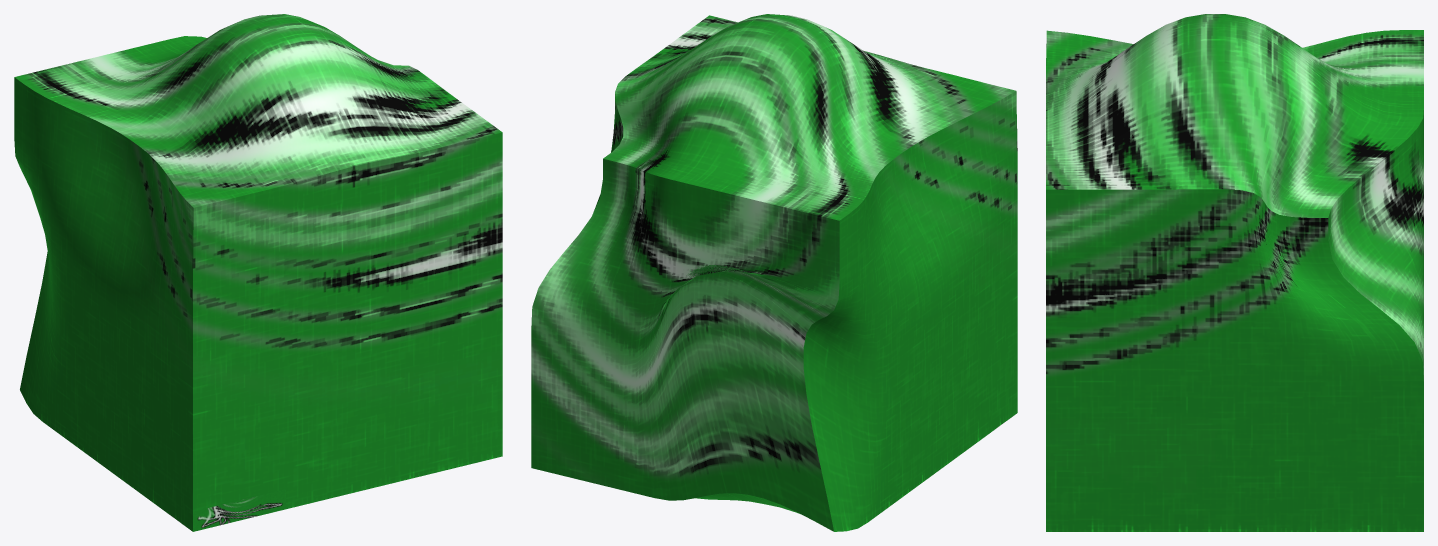
Rendered from AWSM_Loadtestbox.fbx.
3 renders of one model, left to right at view 1: azimuth 30°, elevation 25°; view 2: azimuth 150°, elevation 25°; view 3: azimuth 270°, elevation 25°, orthographic. The views are drawn at different scales.
Parts seen in each view (by area): view 1: pCube1; view 2: pCube1; view 3: pCube1.
Part boxes in pixels (box(x1,y1,x2,y2)): pCube1: box(14, 14, 502, 531); pCube1: box(531, 14, 1017, 531); pCube1: box(1046, 14, 1423, 531).
Size of the model in its own units: 9.86 by 12.45 by 9.86.
Materials: 1 (1 with a texture image).
